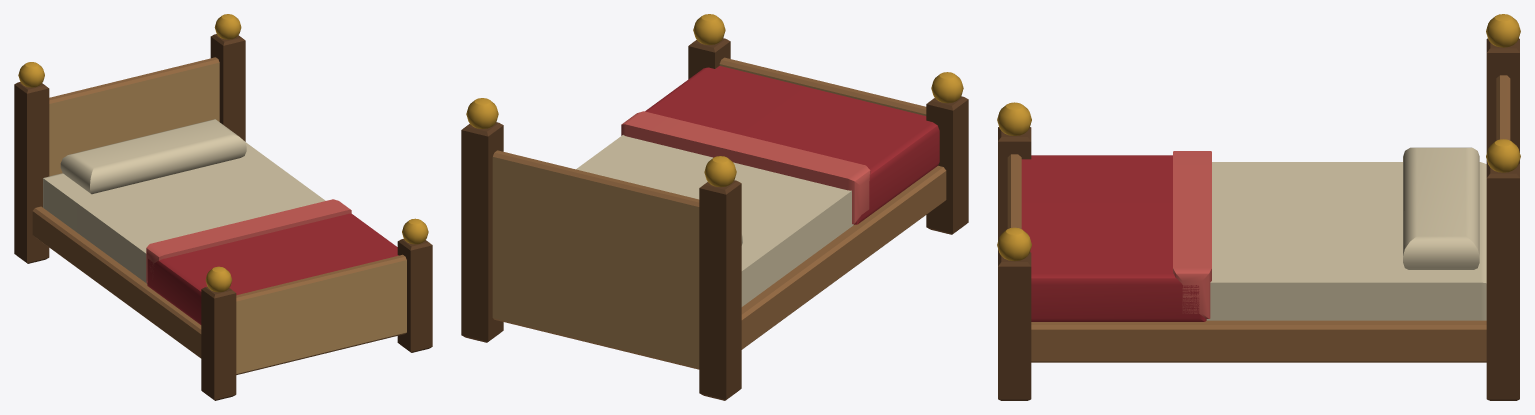
File: Bed_05.glb
3 renders of one model, left to right at view 1: azimuth 30°, elevation 25°; view 2: azimuth 150°, elevation 25°; view 3: azimuth 270°, elevation 25°, orthographic. The views are drawn at different scales.
Visible parts, largest first — view 1: Bed_05; view 2: Bed_05; view 3: Bed_05.
Boxes of the visible parts, bbox=[...] form: Bed_05: bbox=[14, 14, 432, 400]; Bed_05: bbox=[461, 14, 968, 400]; Bed_05: bbox=[997, 14, 1520, 400].
Size of the model in its own units: 4.75 by 4.03 by 7.51.
